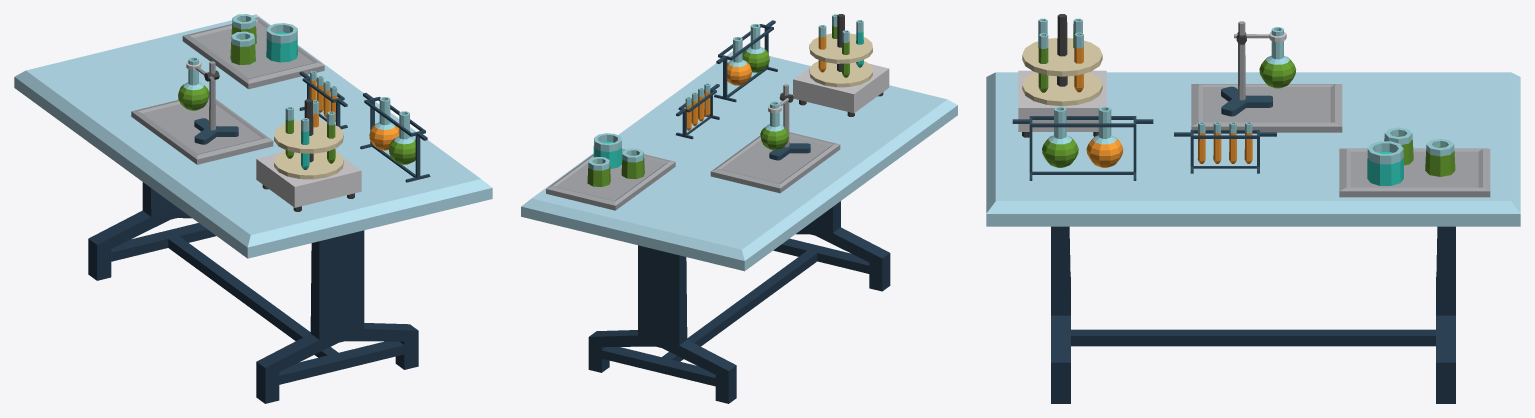
Rendered from Table2.fbx.
3 views of the same model, side by side, from view 1: azimuth 30°, elevation 25°; view 2: azimuth 150°, elevation 25°; view 3: azimuth 270°, elevation 25° (orthographic). The views are drawn at different scales.
Parts seen in each view (by area): view 1: Cube.006_185, Cube.009_186, Cube.026_207, Cube.028_209, Cube.025_218, Circle.005_219, Circle.001_212, Cube.029_210, Circle.004_197, Circle.018_205, Circle.011_198, Circle.012_199 (+6 smaller); view 2: Cube.006_185, Cube.009_186, Cube.026_207, Cube.028_209, Cube.025_218, Circle.005_219, Circle.001_212, Cube.029_210, Circle.004_197, Circle.018_205, Circle.013_200, Circle.012_199 (+5 smaller); view 3: Cube.006_185, Cube.009_186, Cube.026_207, Cube.028_209, Cube.025_218, Circle.005_219, Cube.029_210, Circle.001_212, Circle.004_197, Circle.012_199, Circle.011_198, Circle.018_205 (+9 smaller).
Boxes of the visible parts, x1,y1,x2,y2 form: Cube.006_185: [14, 14, 492, 258]; Cube.009_186: [88, 182, 418, 403]; Cube.026_207: [131, 95, 273, 164]; Cube.028_209: [182, 17, 324, 89]; Cube.025_218: [256, 153, 361, 207]; Circle.005_219: [274, 120, 343, 153]; Circle.001_212: [274, 150, 343, 179]; Cube.029_210: [360, 93, 430, 182]; Circle.004_197: [266, 23, 297, 62]; Circle.018_205: [178, 57, 209, 110]; Circle.011_198: [389, 111, 415, 164]; Circle.012_199: [369, 97, 399, 150]; Cube.006_185: [521, 51, 957, 271]; Cube.009_186: [588, 201, 890, 403]; Cube.026_207: [710, 132, 840, 193]; Cube.028_209: [546, 149, 675, 210]; Cube.025_218: [793, 63, 889, 113]; Circle.005_219: [809, 33, 872, 63]; Circle.001_212: [809, 61, 872, 87]; Cube.029_210: [714, 20, 777, 102]; Circle.004_197: [593, 133, 622, 168]; Circle.018_205: [760, 101, 788, 150]; Circle.013_200: [685, 83, 710, 130]; Circle.012_199: [727, 37, 751, 85]; Cube.006_185: [986, 72, 1520, 226]; Cube.009_186: [1051, 226, 1455, 403]; Cube.026_207: [1191, 84, 1342, 132]; Cube.028_209: [1339, 148, 1490, 197]; Cube.025_218: [1018, 70, 1106, 131]; Circle.005_219: [1022, 38, 1102, 76]; Cube.029_210: [1012, 116, 1153, 180]; Circle.001_212: [1022, 72, 1102, 106]; Circle.004_197: [1367, 141, 1403, 185]; Circle.012_199: [1086, 106, 1123, 167]; Circle.011_198: [1042, 106, 1078, 167]; Circle.018_205: [1259, 27, 1296, 88].
Bounding box in the file's own units: 54.59 × 61.31 × 90.09.
